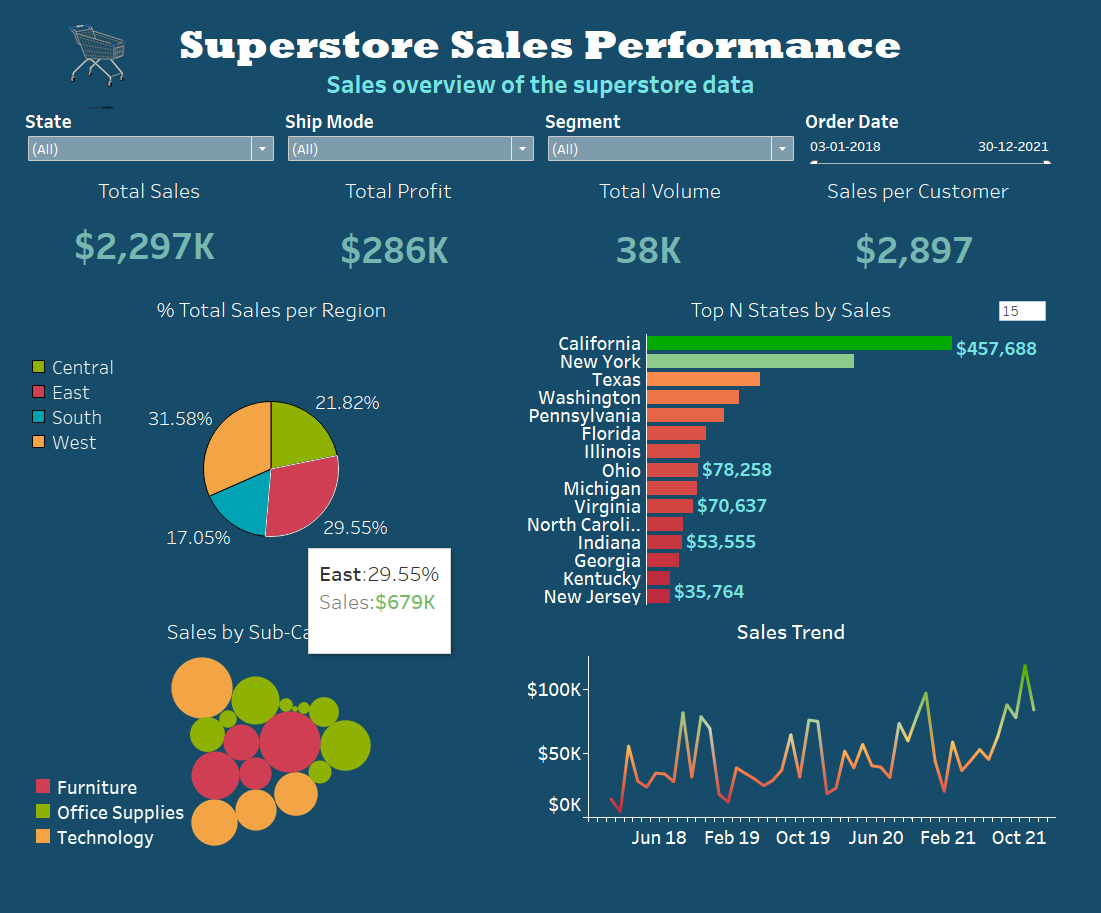

The page's visual inventory and layout, read from the dashboard file:
{"tool":"tableau","page":{"name":"Sales Dashboard ","canvas":[1055,850],"ordinal":0},"visuals":[{"type":"title","box":[8,8,1039,88]},{"type":"filter","title":"Total Sales","param":"[federated.1ncrtq90a7yeeq193o0fb1xv2tn9].[none:State:nk]","box":[8,96,260,64]},{"type":"filter","title":"Total Sales","param":"[federated.1ncrtq90a7yeeq193o0fb1xv2tn9].[none:Ship Mode:nk]","box":[268,96,260,64]},{"type":"filter","title":"Total Sales","param":"[federated.1ncrtq90a7yeeq193o0fb1xv2tn9].[none:Segment:nk]","box":[528,96,260,64]},{"type":"filter","title":"Total Sales","param":"[federated.1ncrtq90a7yeeq193o0fb1xv2tn9].[none:Order Date:qk]","box":[788,96,259,64]},{"type":"worksheet","title":"Total Sales","mark":"Automatic","box":[8,160,247,119]},{"type":"worksheet","title":"Total Profit","mark":"Automatic","box":[255,160,254,119]},{"type":"worksheet","title":"Total Volume","mark":"Automatic","box":[509,160,254,119]},{"type":"worksheet","title":"Sales per Customer","mark":"Automatic","box":[763,160,277,119]},{"type":"worksheet","title":"Pie Chart","mark":"Pie","box":[8,279,501,322]},{"type":"worksheet","title":"Bar chart","mark":"Automatic","rows":["State"],"cols":["Sales"],"box":[509,279,538,322]},{"type":"parameter","param":"[Parameters].[Parameter 1]","box":[983,290,53,27]},{"type":"legend","title":"Pie Chart","param":"[federated.1ncrtq90a7yeeq193o0fb1xv2tn9].[none:Region:nk]","box":[13,346,96,129]},{"type":"worksheet","title":"Bubble chart","mark":"Circle","box":[8,601,501,241]},{"type":"worksheet","title":"Line Chart","mark":"Automatic","rows":["Sales"],"cols":["Order Date"],"box":[509,601,538,241]}]}

Visuals, with their boxes in screenshot pixels (x1, y1, x2, y2), scaled from the page's 1055x850 canvas onto the 1101x913 screenshot:
title: [left=8, top=9, right=1093, bottom=103]
"Total Sales" filter: [left=8, top=103, right=280, bottom=172]
"Total Sales" filter: [left=280, top=103, right=551, bottom=172]
"Total Sales" filter: [left=551, top=103, right=822, bottom=172]
"Total Sales" filter: [left=822, top=103, right=1093, bottom=172]
"Total Sales" worksheet: [left=8, top=172, right=266, bottom=300]
"Total Profit" worksheet: [left=266, top=172, right=531, bottom=300]
"Total Volume" worksheet: [left=531, top=172, right=796, bottom=300]
"Sales per Customer" worksheet: [left=796, top=172, right=1085, bottom=300]
"Pie Chart" worksheet (Pie marks): [left=8, top=300, right=531, bottom=646]
"Bar chart" worksheet: [left=531, top=300, right=1093, bottom=646]
parameter: [left=1026, top=311, right=1081, bottom=340]
"Pie Chart" legend: [left=14, top=372, right=114, bottom=510]
"Bubble chart" worksheet (Circle marks): [left=8, top=646, right=531, bottom=904]
"Line Chart" worksheet: [left=531, top=646, right=1093, bottom=904]
